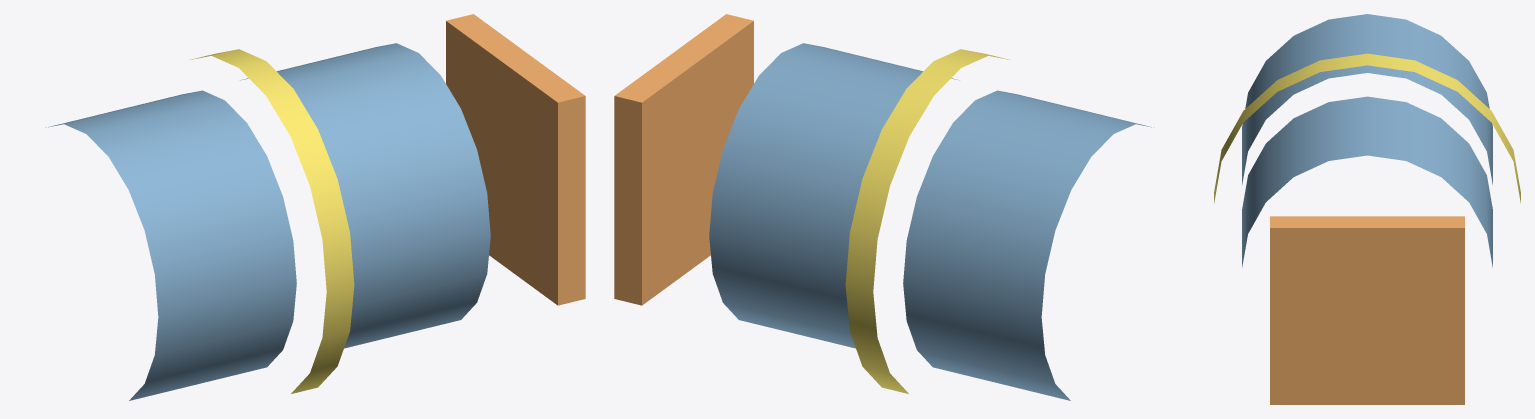
The model's file is shaft_couplings_joints.glb.
The picture shows the model from 3 angles, left to right: view 1: azimuth 30°, elevation 25°; view 2: azimuth 150°, elevation 25°; view 3: azimuth 270°, elevation 25°; orthographic projection. The views are drawn at different scales.
Visible parts, largest first — view 1: DrivingFlangeHub, DrivenFlangeHub, OldhamCenterSliderDisc, FlangeCouplingBoltsRing; view 2: DrivingFlangeHub, DrivenFlangeHub, OldhamCenterSliderDisc, FlangeCouplingBoltsRing; view 3: OldhamCenterSliderDisc, DrivenFlangeHub, DrivingFlangeHub, FlangeCouplingBoltsRing.
Boxes of the visible parts, left/top/right/bottom form: DrivingFlangeHub: left=46, top=90, right=296, bottom=400; DrivenFlangeHub: left=240, top=43, right=490, bottom=348; OldhamCenterSliderDisc: left=446, top=14, right=585, bottom=305; FlangeCouplingBoltsRing: left=190, top=49, right=354, bottom=393; DrivingFlangeHub: left=903, top=90, right=1153, bottom=400; DrivenFlangeHub: left=709, top=43, right=959, bottom=348; OldhamCenterSliderDisc: left=614, top=14, right=753, bottom=305; FlangeCouplingBoltsRing: left=845, top=49, right=1009, bottom=393; OldhamCenterSliderDisc: left=1270, top=216, right=1464, bottom=404; DrivenFlangeHub: left=1242, top=96, right=1492, bottom=267; DrivingFlangeHub: left=1242, top=14, right=1492, bottom=184; FlangeCouplingBoltsRing: left=1214, top=53, right=1520, bottom=203.
Size of the model in its own units: 1.6 by 1.1 by 1.1.
